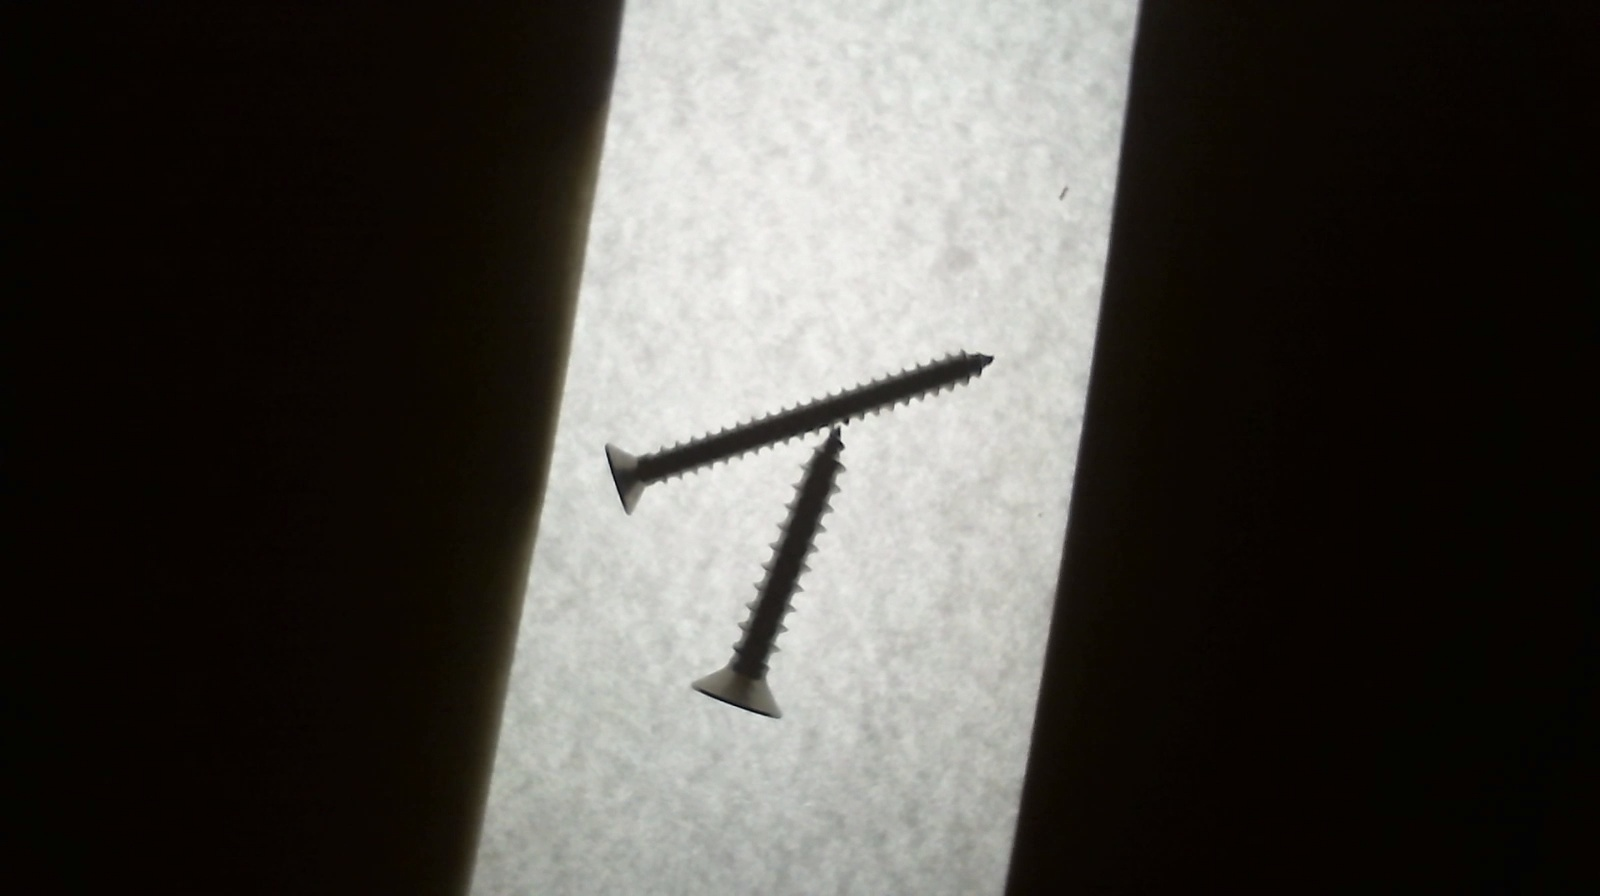S001: (685, 424, 851, 722)
S002: (595, 349, 993, 521)
